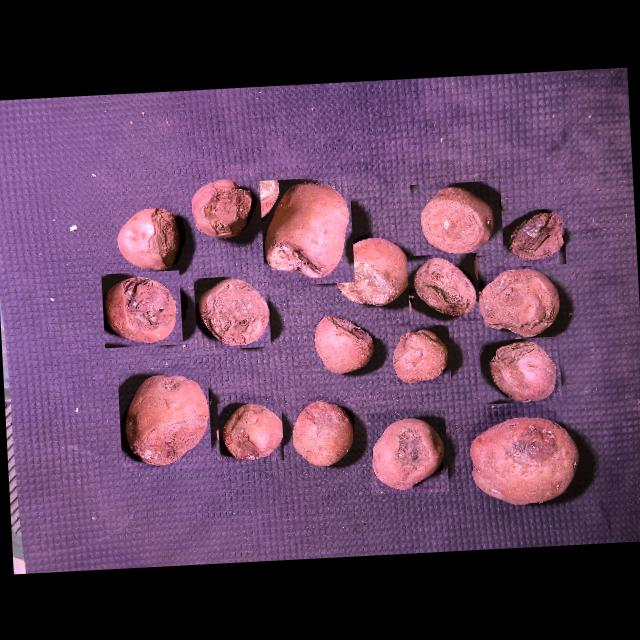Damaged potato: (259, 175, 354, 286), (471, 264, 574, 340), (409, 179, 503, 258), (329, 232, 414, 308), (100, 270, 182, 348), (192, 274, 270, 349), (478, 335, 562, 404), (110, 199, 182, 277), (406, 252, 479, 324), (306, 309, 378, 381), (187, 172, 256, 242), (500, 207, 566, 266)
Diseased-fungal potato: (463, 406, 580, 513), (116, 366, 212, 471), (366, 408, 448, 494), (286, 395, 358, 473), (216, 400, 283, 462), (388, 324, 450, 384)
